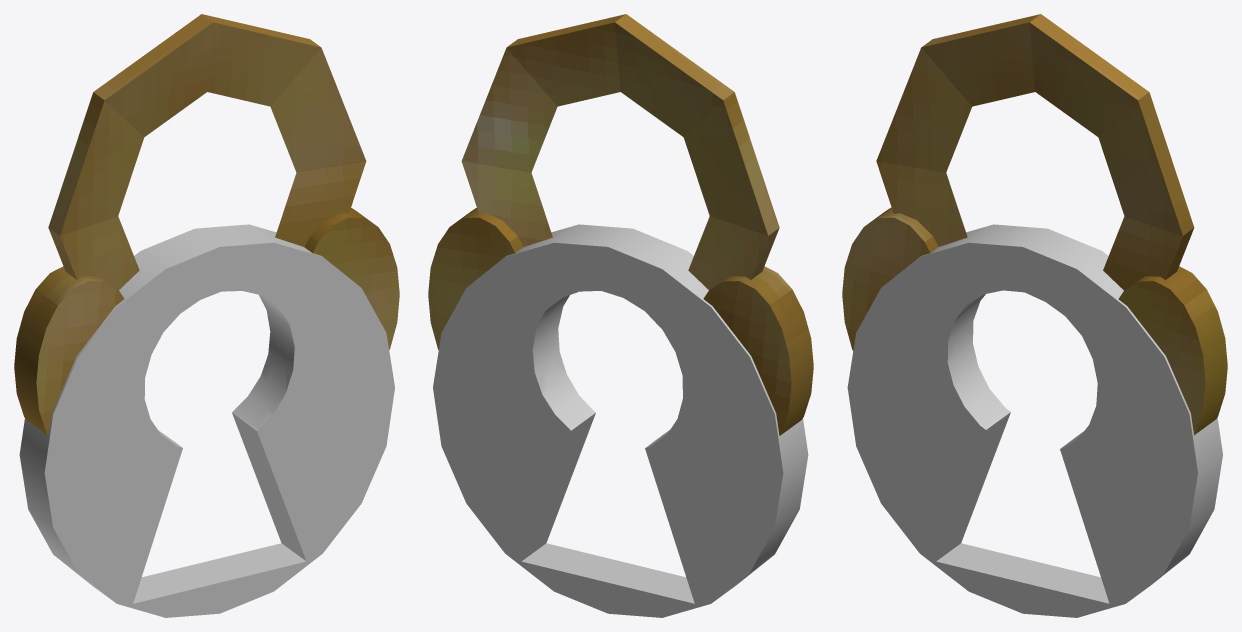
The model's file is PadlockUV.fbx.
The picture shows the model from 3 angles, left to right: view 1: azimuth 30°, elevation 25°; view 2: azimuth 150°, elevation 25°; view 3: azimuth 330°, elevation 25°; orthographic projection.
Parts seen in each view (by area): view 1: polySurface6; view 2: polySurface6; view 3: polySurface6.
Boxes of the visible parts, x1,y1,x2,y2 form: polySurface6: (14, 14, 399, 617); polySurface6: (428, 14, 813, 617); polySurface6: (842, 14, 1227, 617).
Bounding box in the file's own units: 279 × 430 × 33.27.
